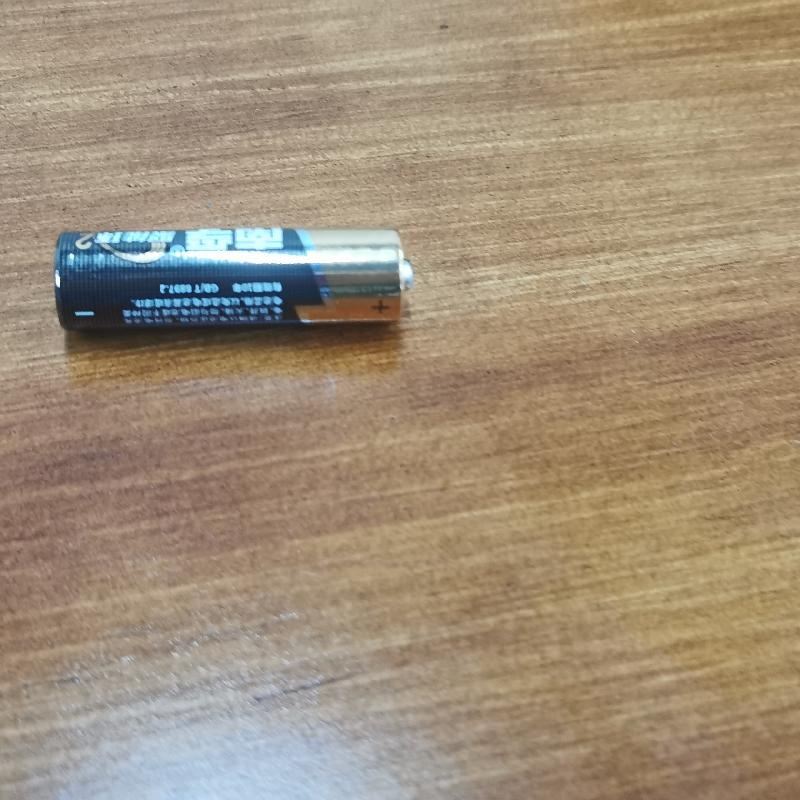battery: (50, 219, 417, 353)
